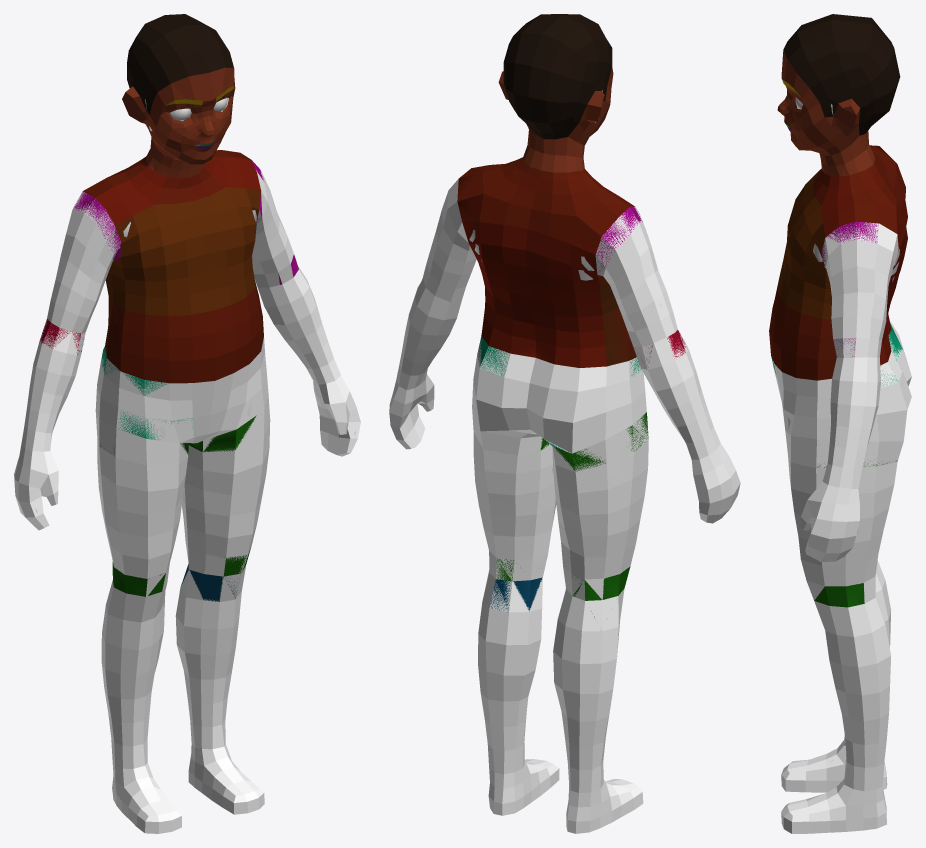
File: RthroMannequin_With-Cages.fbx
3 views of the same model, side by side, from view 1: azimuth 30°, elevation 25°; view 2: azimuth 150°, elevation 25°; view 3: azimuth 270°, elevation 25° (orthographic).
Parts seen in each view (by area): view 1: UpperTorso_OuterCage, Head_OuterCage, RightUpperLeg_OuterCage, LowerTorso_OuterCage, LeftUpperLeg_OuterCage, RightLowerLeg_OuterCage, LeftLowerLeg_OuterCage, ClothingName_InnerCage, RightUpperArm_OuterCage, RightLowerArm_OuterCage, LeftLowerArm_OuterCage, LeftFoot_OuterCage (+4 smaller); view 2: UpperTorso_OuterCage, Head_OuterCage, LowerTorso_OuterCage, RightUpperLeg_OuterCage, LeftUpperLeg_OuterCage, RightLowerLeg_OuterCage, LeftLowerLeg_OuterCage, ClothingName_InnerCage, RightUpperArm_OuterCage, RightLowerArm_OuterCage, LeftLowerArm_OuterCage, LeftUpperArm_OuterCage (+4 smaller); view 3: UpperTorso_OuterCage, Head_OuterCage, LeftLowerLeg_OuterCage, LeftUpperLeg_OuterCage, LeftUpperArm_OuterCage, LowerTorso_OuterCage, LeftLowerArm_OuterCage, LeftFoot_OuterCage, ClothingName_InnerCage, LeftHand_OuterCage, RightFoot_OuterCage, RightLowerLeg_OuterCage.
Boxes of the visible parts, x1,y1,x2,y2 form: UpperTorso_OuterCage: [83, 150, 263, 383]; Head_OuterCage: [122, 14, 235, 178]; RightUpperLeg_OuterCage: [95, 411, 188, 596]; LowerTorso_OuterCage: [95, 337, 268, 443]; LeftUpperLeg_OuterCage: [181, 392, 270, 576]; RightLowerLeg_OuterCage: [101, 580, 166, 768]; LeftLowerLeg_OuterCage: [175, 565, 245, 749]; ClothingName_InnerCage: [40, 150, 298, 601]; RightUpperArm_OuterCage: [47, 191, 120, 333]; RightLowerArm_OuterCage: [21, 318, 85, 451]; LeftLowerArm_OuterCage: [258, 266, 340, 384]; LeftFoot_OuterCage: [188, 744, 264, 814]; UpperTorso_OuterCage: [457, 157, 636, 367]; Head_OuterCage: [498, 14, 613, 172]; LowerTorso_OuterCage: [472, 338, 646, 453]; RightUpperLeg_OuterCage: [552, 415, 648, 600]; LeftUpperLeg_OuterCage: [472, 408, 556, 581]; RightLowerLeg_OuterCage: [553, 588, 624, 792]; LeftLowerLeg_OuterCage: [478, 570, 542, 774]; ClothingName_InnerCage: [457, 155, 686, 617]; RightUpperArm_OuterCage: [595, 207, 677, 346]; RightLowerArm_OuterCage: [633, 332, 720, 459]; LeftLowerArm_OuterCage: [396, 278, 461, 390]; LeftUpperArm_OuterCage: [423, 179, 476, 302]; UpperTorso_OuterCage: [769, 146, 907, 380]; Head_OuterCage: [777, 14, 900, 176]; LeftLowerLeg_OuterCage: [814, 598, 891, 791]; LeftUpperLeg_OuterCage: [785, 431, 903, 603]; LeftUpperArm_OuterCage: [822, 222, 898, 357]; LowerTorso_OuterCage: [772, 321, 911, 441]; LeftLowerArm_OuterCage: [822, 357, 880, 488]; LeftFoot_OuterCage: [781, 779, 886, 833]; ClothingName_InnerCage: [771, 145, 905, 607]; LeftHand_OuterCage: [800, 482, 859, 561]; RightFoot_OuterCage: [781, 740, 887, 792]; RightLowerLeg_OuterCage: [844, 560, 891, 745].
Bounding box in the file's own units: 2.85 × 6.31 × 1.04.
